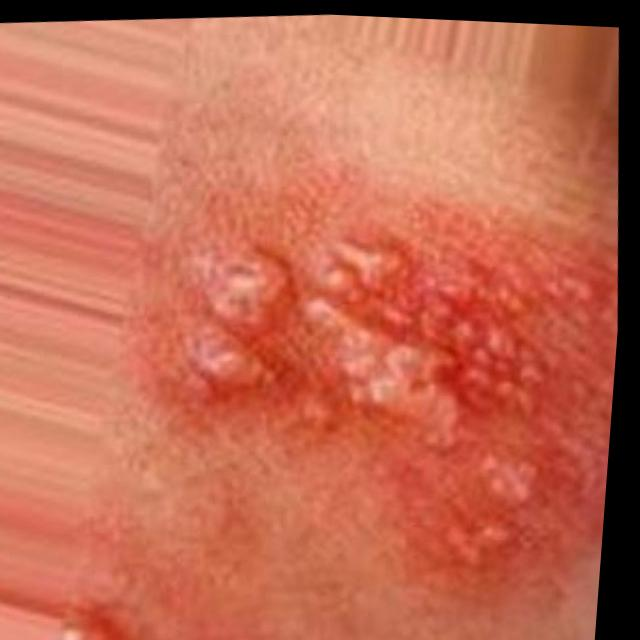Shingles: (177, 212, 576, 560)
